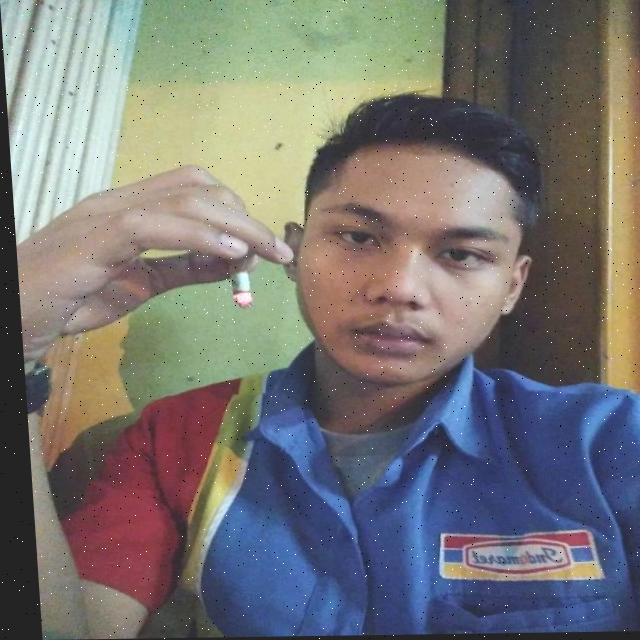cigarette: (227, 266, 248, 309)
